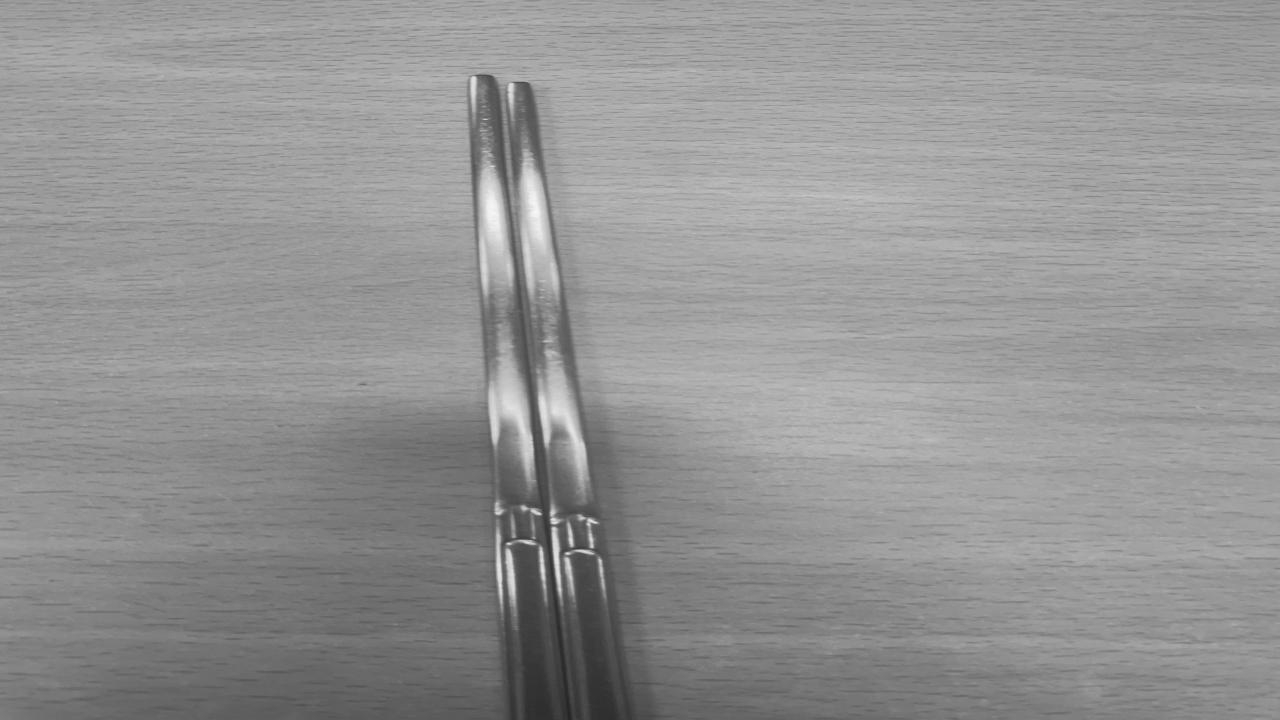chopstick: (470, 74, 633, 720)
